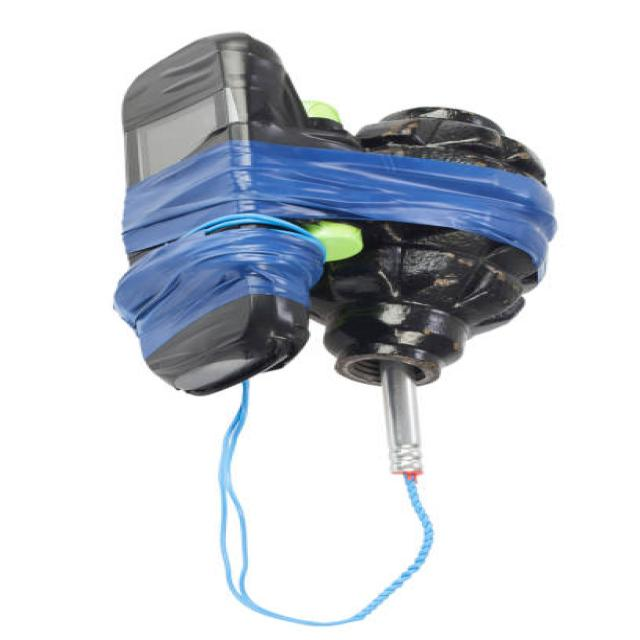grenade: (315, 103, 556, 389)
